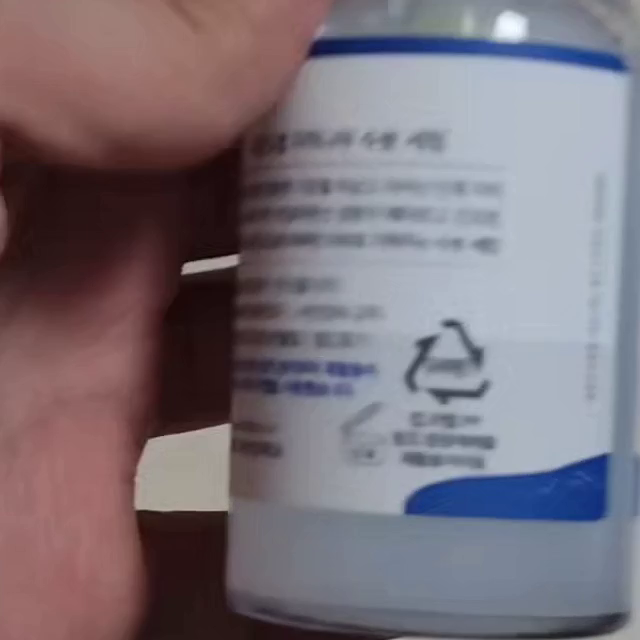ColorlessPet: (406, 319, 491, 406)
